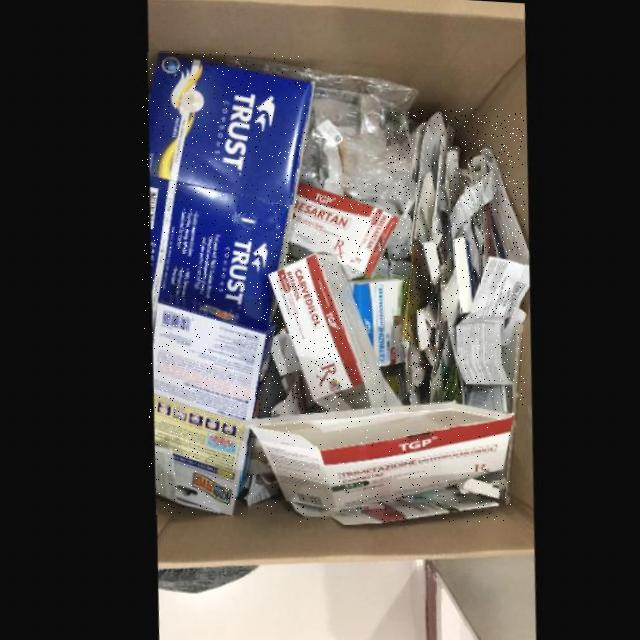paper: (143, 52, 307, 331), (386, 108, 525, 406), (241, 397, 512, 514), (150, 302, 262, 514), (256, 250, 398, 413), (274, 180, 393, 277), (290, 472, 505, 521), (452, 251, 525, 379), (344, 274, 403, 363)
